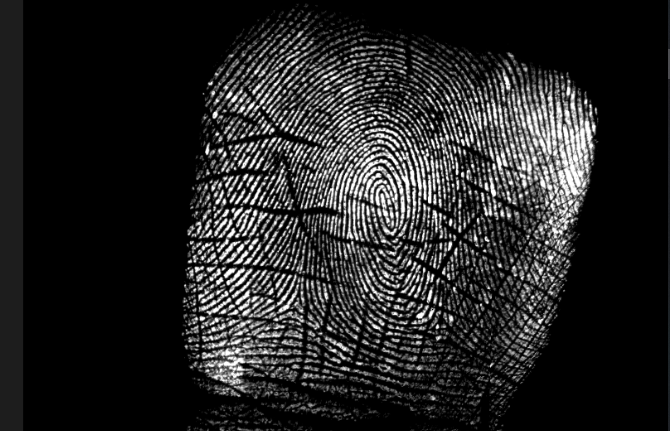nucelo: (364, 183, 404, 233)
verticilo: (425, 297, 457, 337), (281, 284, 310, 318)
